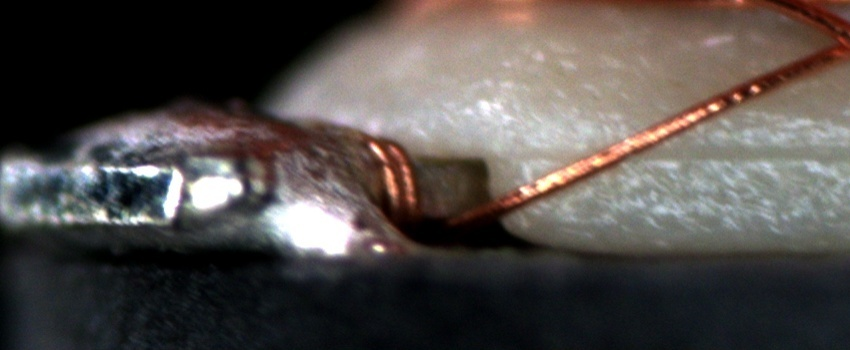CL: (804, 12, 850, 74)
DL: (527, 123, 850, 188)
TE: (361, 129, 426, 220)
